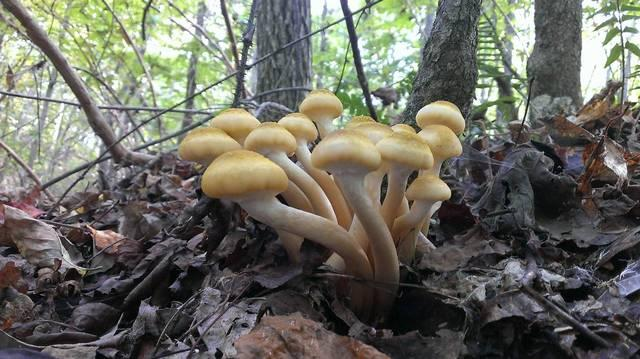Edible Mushroom: (178, 88, 465, 321)
